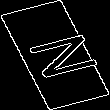N_E: (11, 27, 99, 83)
